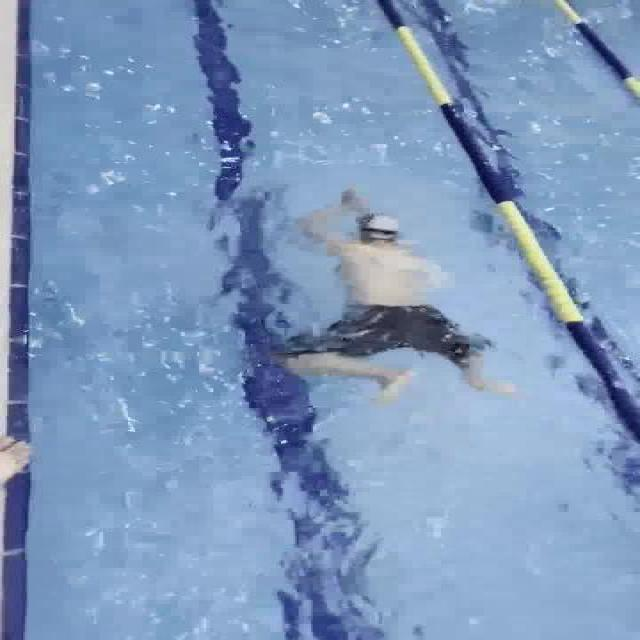Swimming: (277, 192, 521, 404)
